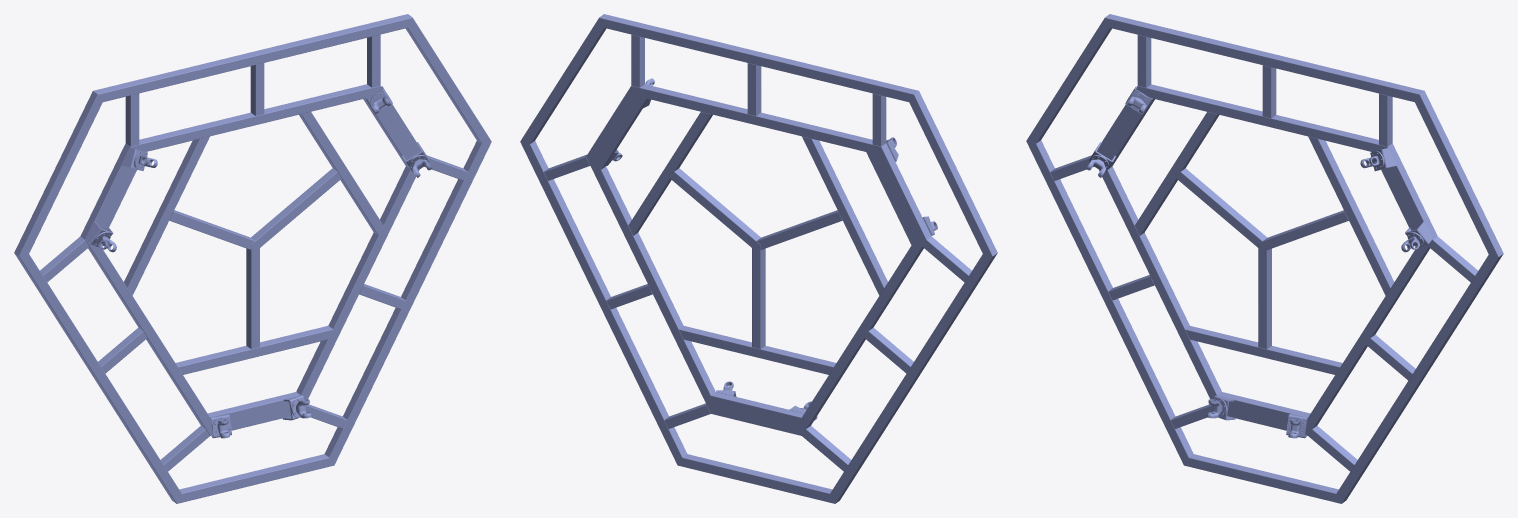
The model's file is onder frame.fbx.
3 renders of one model, left to right at view 1: azimuth 30°, elevation 25°; view 2: azimuth 150°, elevation 25°; view 3: azimuth 330°, elevation 25°, orthographic.
Visible parts, largest first — view 1: nodes[0]; view 2: nodes[0]; view 3: nodes[0].
Boxes of the visible parts, <box> form: nodes[0]: <box>14,14,491,503</box>; nodes[0]: <box>520,14,997,503</box>; nodes[0]: <box>1026,14,1503,503</box>.
Size of the model in its own units: 2137 by 1852 by 141.
